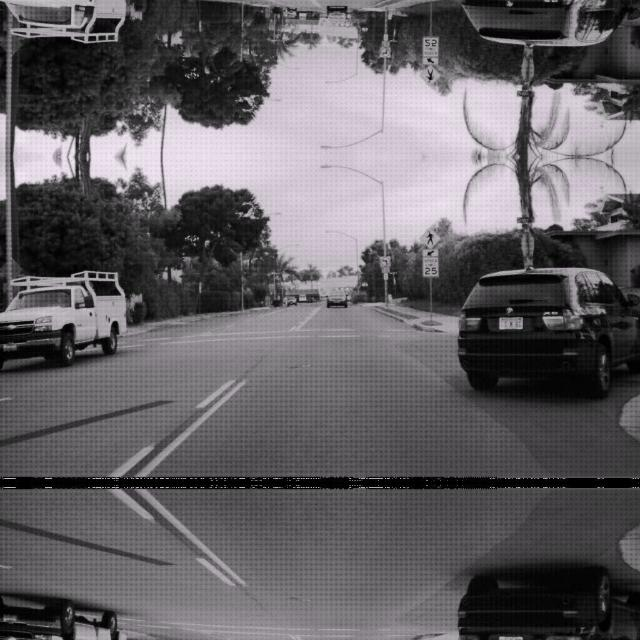pedestrianCrossing: (418, 225, 440, 247), (418, 65, 440, 87)
